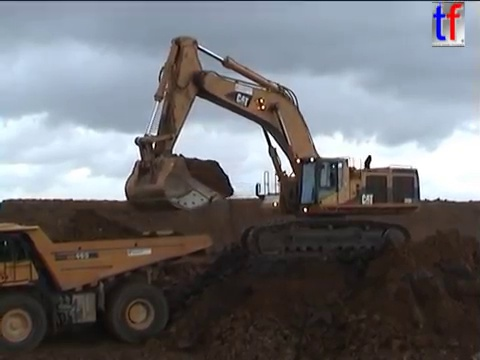excavator: (121, 33, 422, 266)
truck: (1, 219, 214, 355)
